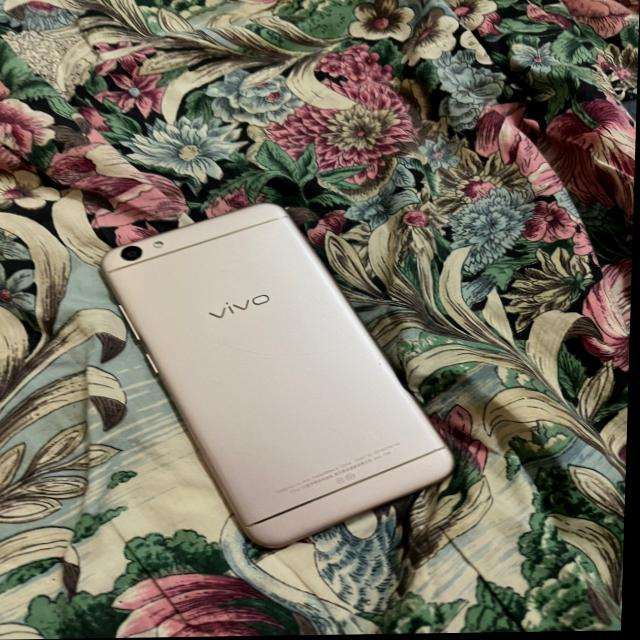Smartphone: (103, 204, 457, 550)
